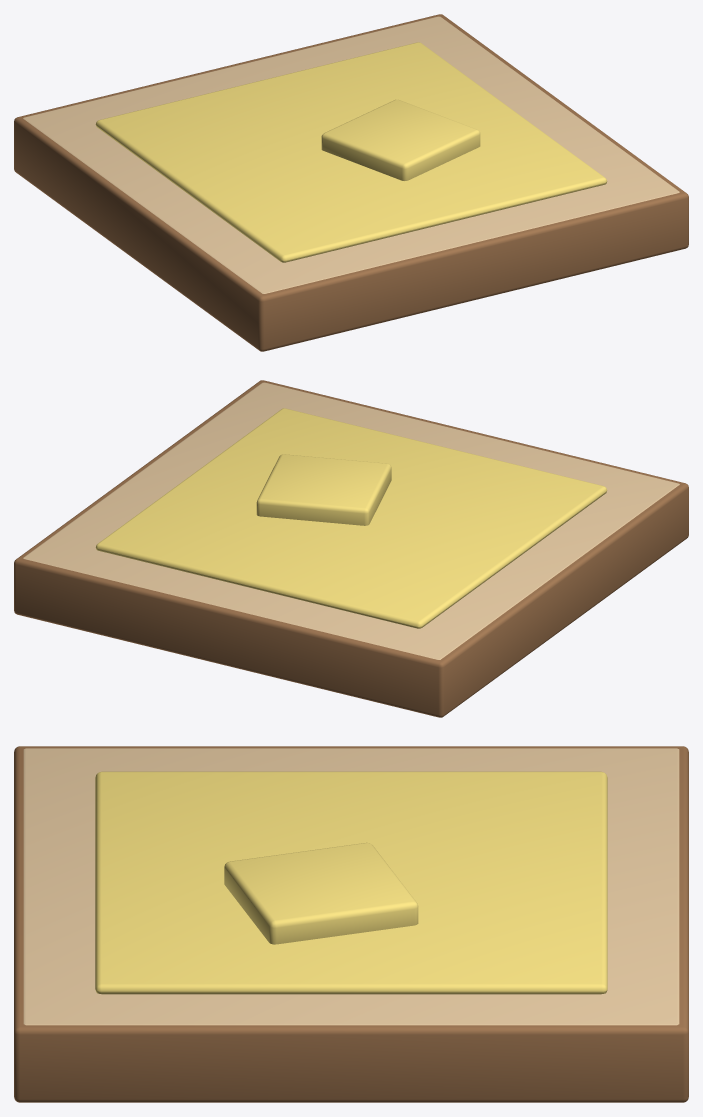
File: buttered_toast.glb
The picture shows the model from 3 angles, top to bottom: view 1: azimuth 30°, elevation 25°; view 2: azimuth 150°, elevation 25°; view 3: azimuth 270°, elevation 25°; orthographic projection. The views are drawn at different scales.
Visible parts, largest first — view 1: Buttered_Toast; view 2: Buttered_Toast; view 3: Buttered_Toast.
Boxes of the visible parts, bbox=[...] form: Buttered_Toast: bbox=[14, 14, 688, 351]; Buttered_Toast: bbox=[14, 380, 688, 717]; Buttered_Toast: bbox=[14, 746, 688, 1102].
Size of the model in its own units: 0.112 by 0.0195 by 0.112.
